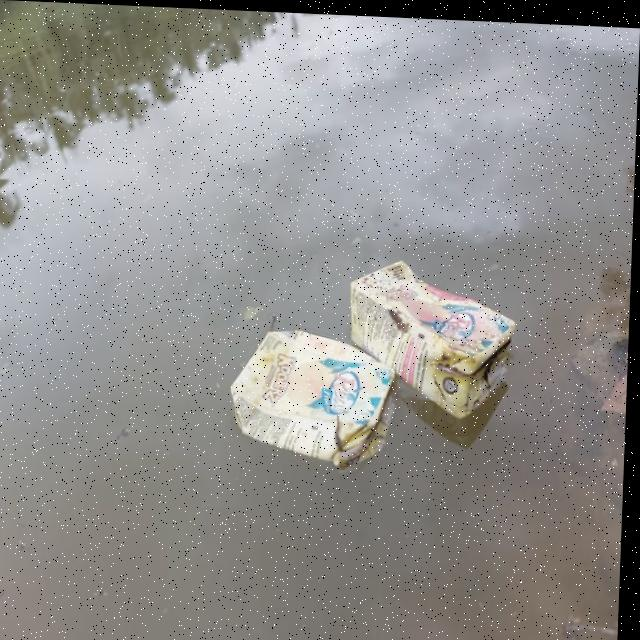paper: (220, 302, 409, 471), (350, 258, 525, 411)
